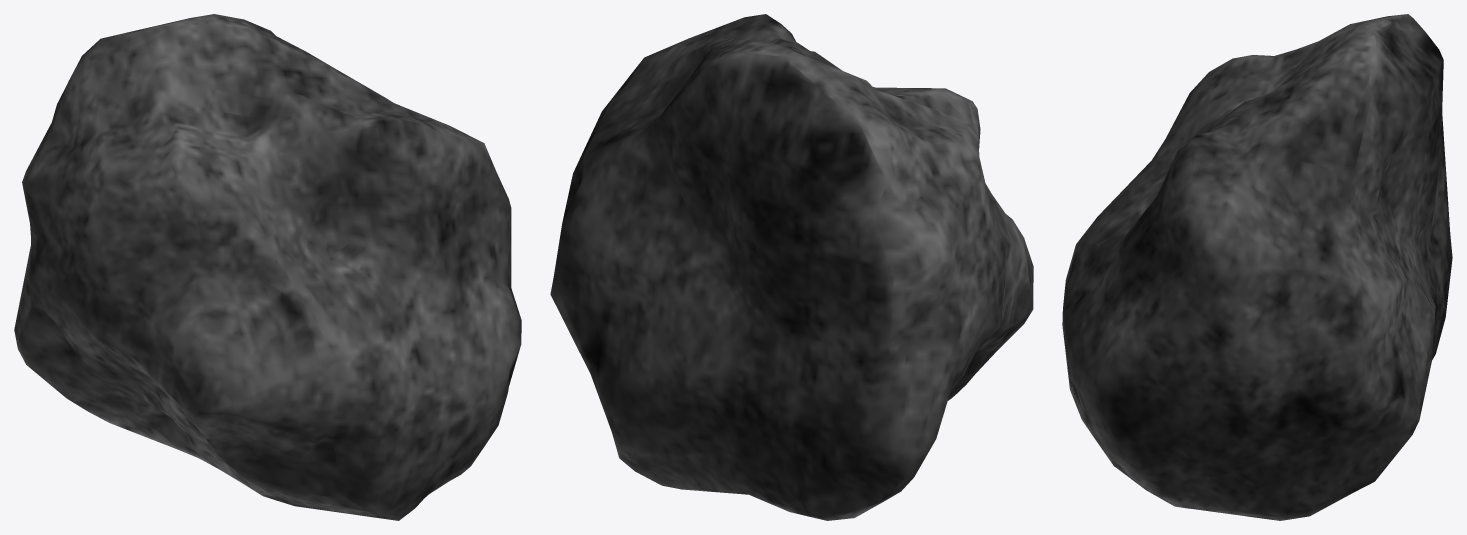
File: rock3.glb
3 views of the same model, side by side, from view 1: azimuth 30°, elevation 25°; view 2: azimuth 150°, elevation 25°; view 3: azimuth 270°, elevation 25° (orthographic). The views are drawn at different scales.
Parts seen in each view (by area): view 1: rock3_0; view 2: rock3_0; view 3: rock3_0.
Part boxes in pixels (left/top/right/bottom): rock3_0: left=14, top=14, right=521, bottom=520; rock3_0: left=550, top=14, right=1033, bottom=520; rock3_0: left=1062, top=14, right=1452, bottom=520.
Size of the model in its own units: 0.9496 by 1 by 0.8327.
Materials: 1 (1 with a texture image).
